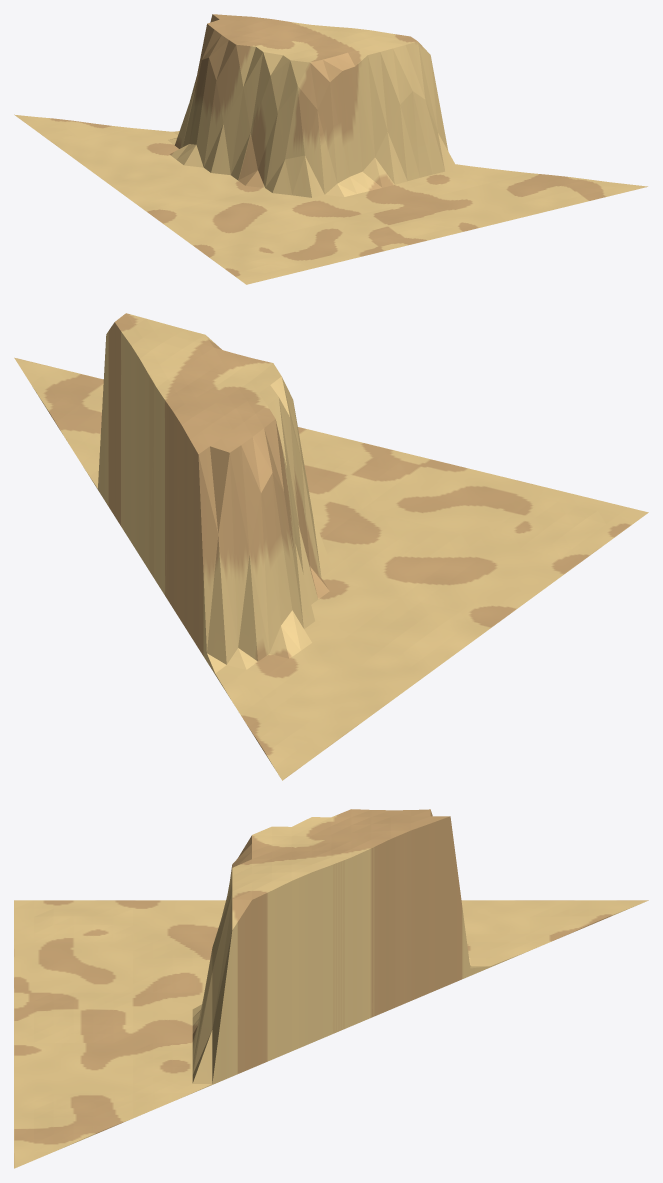
The model's file is Desert_Mountains_11_NW.obj.
3 views of the same model, one above another, from view 1: azimuth 30°, elevation 25°; view 2: azimuth 150°, elevation 25°; view 3: azimuth 270°, elevation 25° (orthographic). The views are drawn at different scales.
Bounding box in the file's own units: 10 × 2.97 × 10.
1 material, 1 textured.
